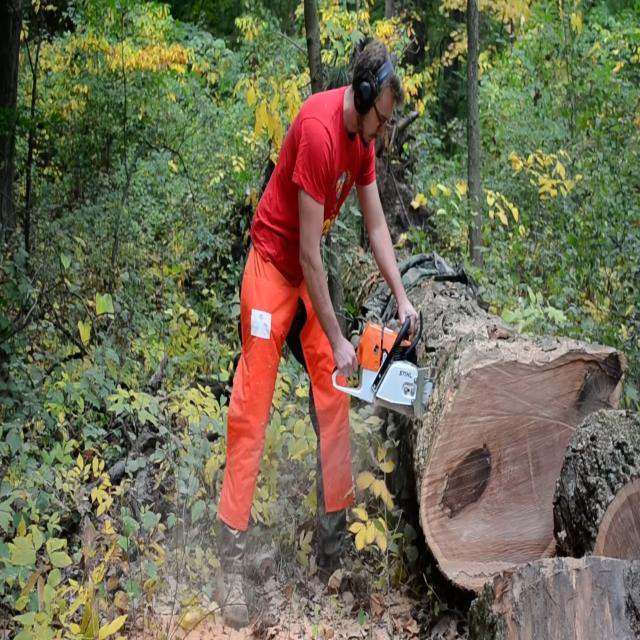Chainsaw: (312, 284, 456, 430)
